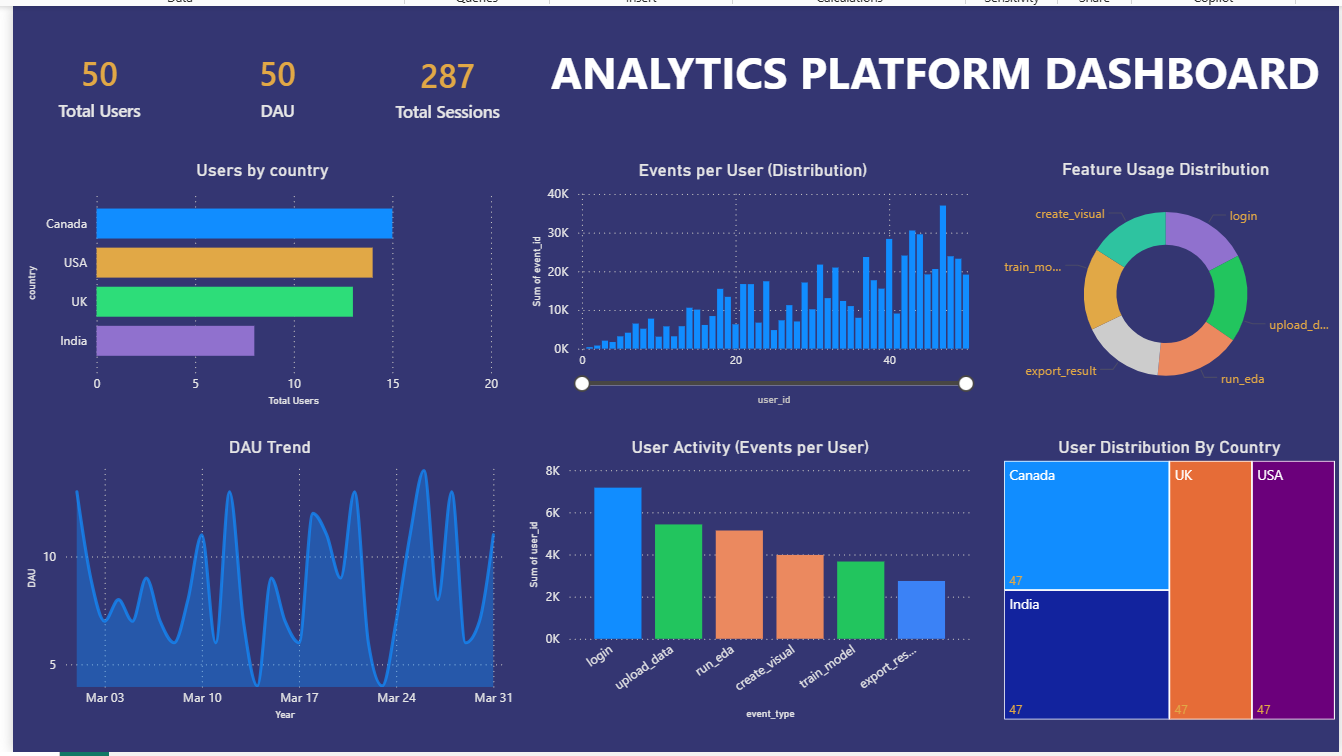

What the dashboard file says about the page in this screenshot:
{"tool":"powerbi","page":{"name":"Page 1","canvas":[1280,720],"ordinal":0},"visuals":[{"type":"card","fields":{"Values":["Users.Total Users"]},"box":[9.8,28.1,148,97.8],"z":0},{"type":"card","fields":{"Values":["Events.DAU"]},"box":[181,28.1,149.2,97.8],"z":1000},{"type":"card","fields":{"Values":["Sessions.Total Sessions"]},"box":[351,29.3,137,97.8],"z":2000},{"type":"textbox","box":[498.9,29.3,781.4,97.8],"z":3000},{"type":"clusteredBarChart","title":"Users by country","fields":{"Category":["Users.country"],"Y":["Users.Total Users"]},"box":[8.4,148.2,465.1,242.2],"z":4000},{"type":"stackedAreaChart","title":"DAU Trend","fields":{"Y":["Events.DAU"],"Category":["Events.Event Date.Variation.Date Hierarchy.Year","Events.Event Date.Variation.Date Hierarchy.Quarter","Events.Event Date.Variation.Date Hierarchy.Month","Events.Event Date.Variation.Date Hierarchy.Day"]},"box":[8.6,414.5,479.4,278.8],"z":5000},{"type":"treemap","title":"User Distribution By Country","fields":{"Values":["Events.Export Users"],"Group":["Users.country"]},"box":[951.4,414.5,328.9,278.8],"z":6000},{"type":"columnChart","title":"User Activity (Events per User)","fields":{"Category":["Events.event_type"],"Y":["Sum(Events.user_id)"]},"box":[494,414.5,436.1,278.3],"z":7000},{"type":"donutChart","title":"Feature Usage Distribution","fields":{"Category":["Events.event_type"],"Y":["Count(Events.user_id)"]},"box":[948.8,147.5,328.8,242.5],"z":8000},{"type":"columnChart","title":"Events per User (Distribution)","fields":{"Category":["Events.user_id"],"Y":["Sum(Events.event_id)"]},"box":[496.4,148.2,436.1,242.2],"z":9000}]}

Visuals, with their boxes on the page's 1280x720 design canvas (x1, y1, x2, y2). These are canvas units, not pixel positions in the 1342x756 screenshot, which may show the page scaled, cropped or inside an application window:
card - Users.Total Users: (left=10, top=28, right=158, bottom=126)
card - Events.DAU: (left=181, top=28, right=330, bottom=126)
card - Sessions.Total Sessions: (left=351, top=29, right=488, bottom=127)
textbox: (left=499, top=29, right=1280, bottom=127)
"Users by country" clusteredBarChart: (left=8, top=148, right=474, bottom=390)
"DAU Trend" stackedAreaChart: (left=9, top=414, right=488, bottom=693)
"User Distribution By Country" treemap: (left=951, top=414, right=1280, bottom=693)
"User Activity (Events per User)" columnChart: (left=494, top=414, right=930, bottom=693)
"Feature Usage Distribution" donutChart: (left=949, top=148, right=1278, bottom=390)
"Events per User (Distribution)" columnChart: (left=496, top=148, right=932, bottom=390)
